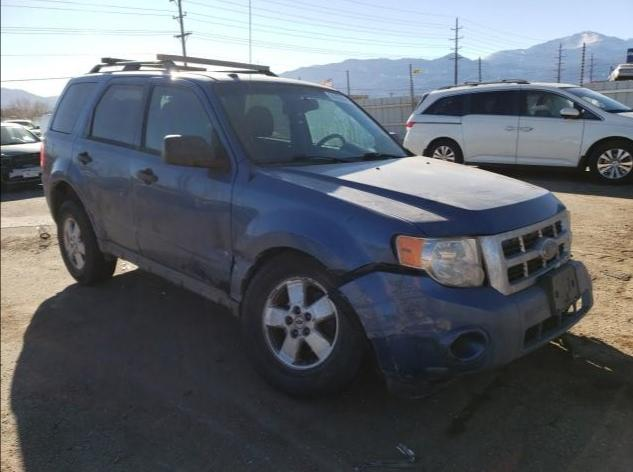Broken part: (328, 258, 596, 403)
Dent: (208, 207, 234, 269), (232, 247, 255, 272), (326, 267, 348, 284), (363, 241, 387, 252), (346, 215, 355, 223)
Paint chip: (366, 313, 454, 341)
Scratch: (380, 356, 402, 377)
